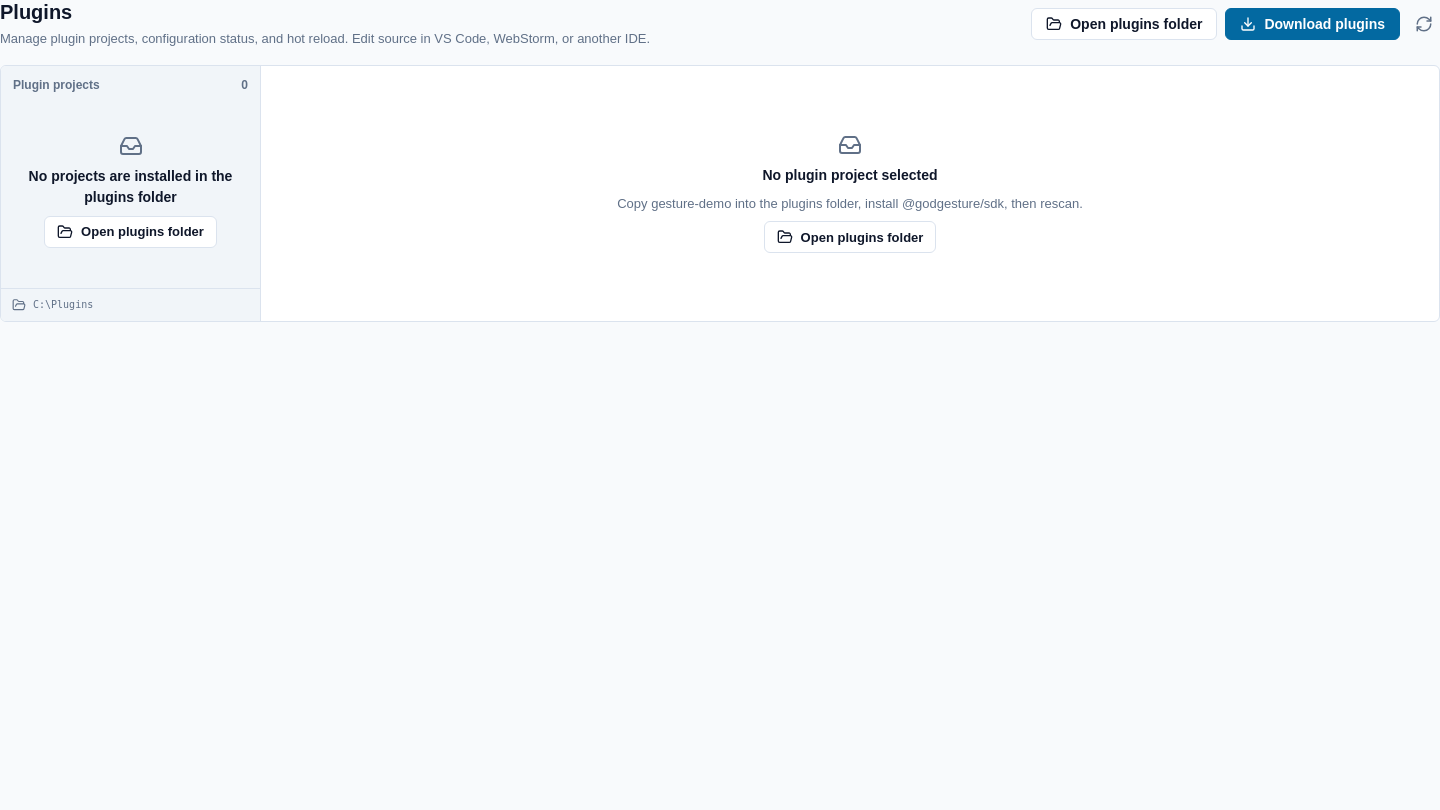
PluginsView › keeps a failed installation confirmable for retry and announces the error
The image size is (1440, 810).
Click the button with test id "plugins-open-online-catalog". click: (1313, 24)
box: [1226,8,1400,40]
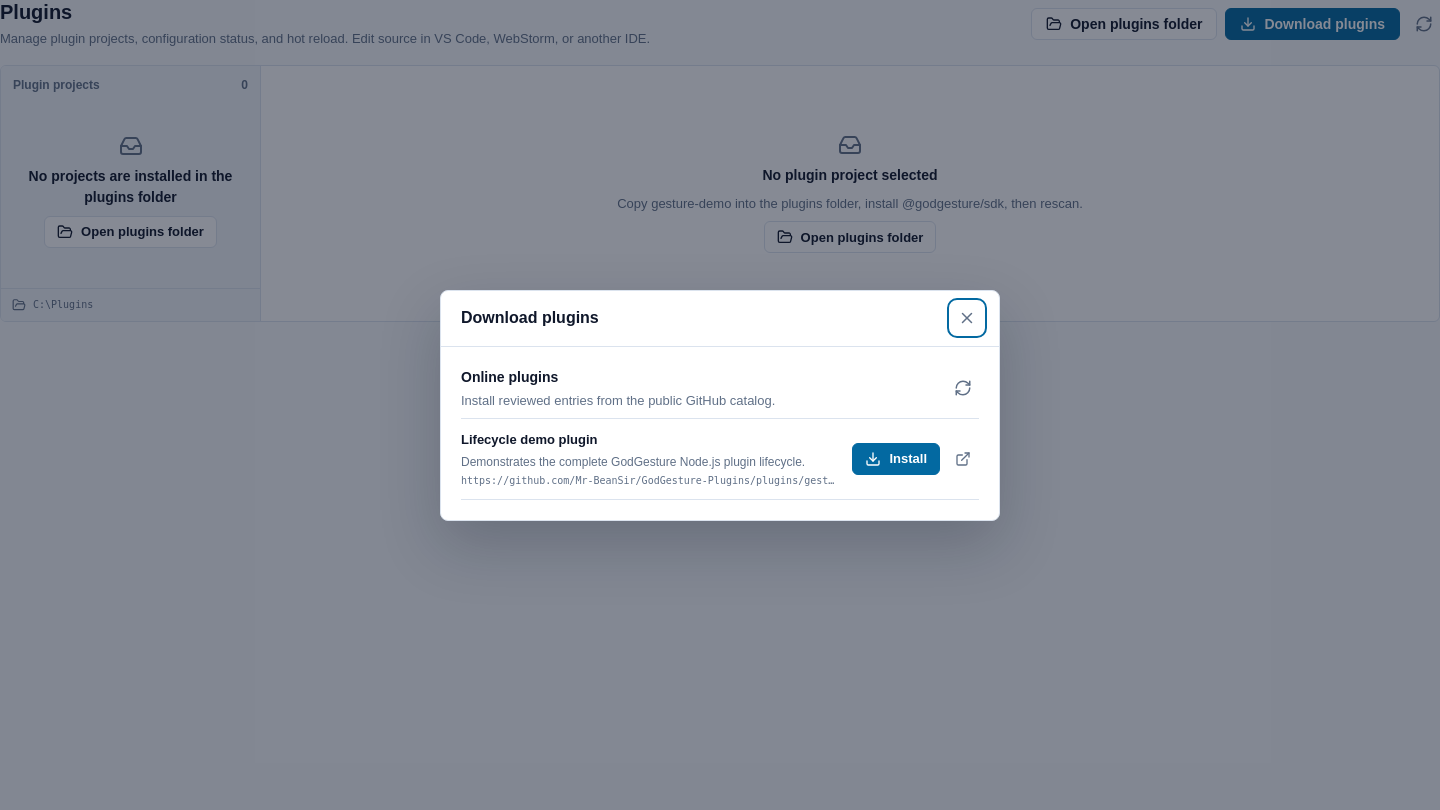
Expected: the dialog is shown, [440,290,1000,520]
Expected: the button with test id "plugins-install-30000000-0000-4000-8000-000000000001" is shown
Click the button with test id "plugins-install-30000000-0000-4000-8000-000000000001". click: (896, 459)
box: [852,443,940,475]
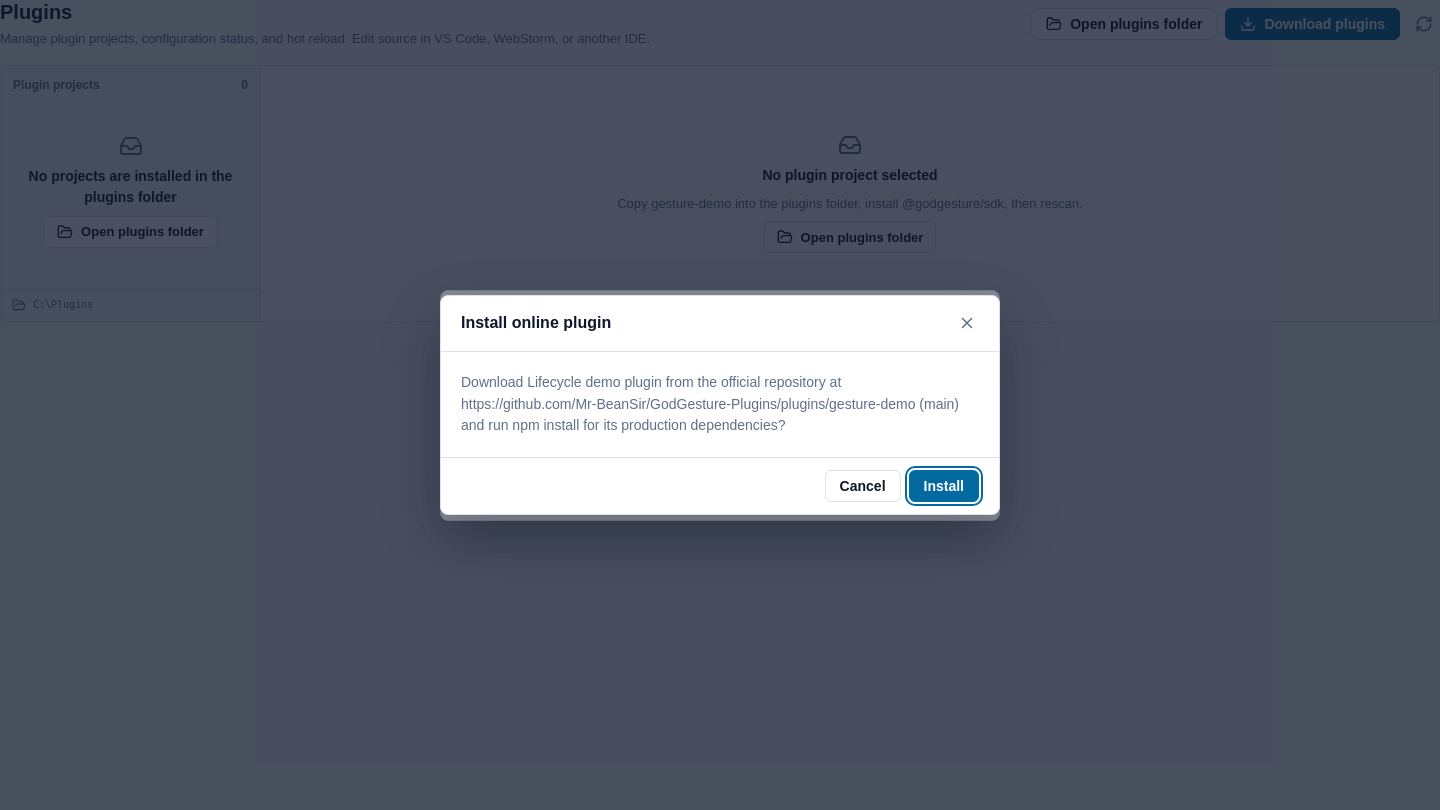
Expected: the button "Install" is shown
Click the button "Install". click: (944, 486)
box: [908,470,979,502]
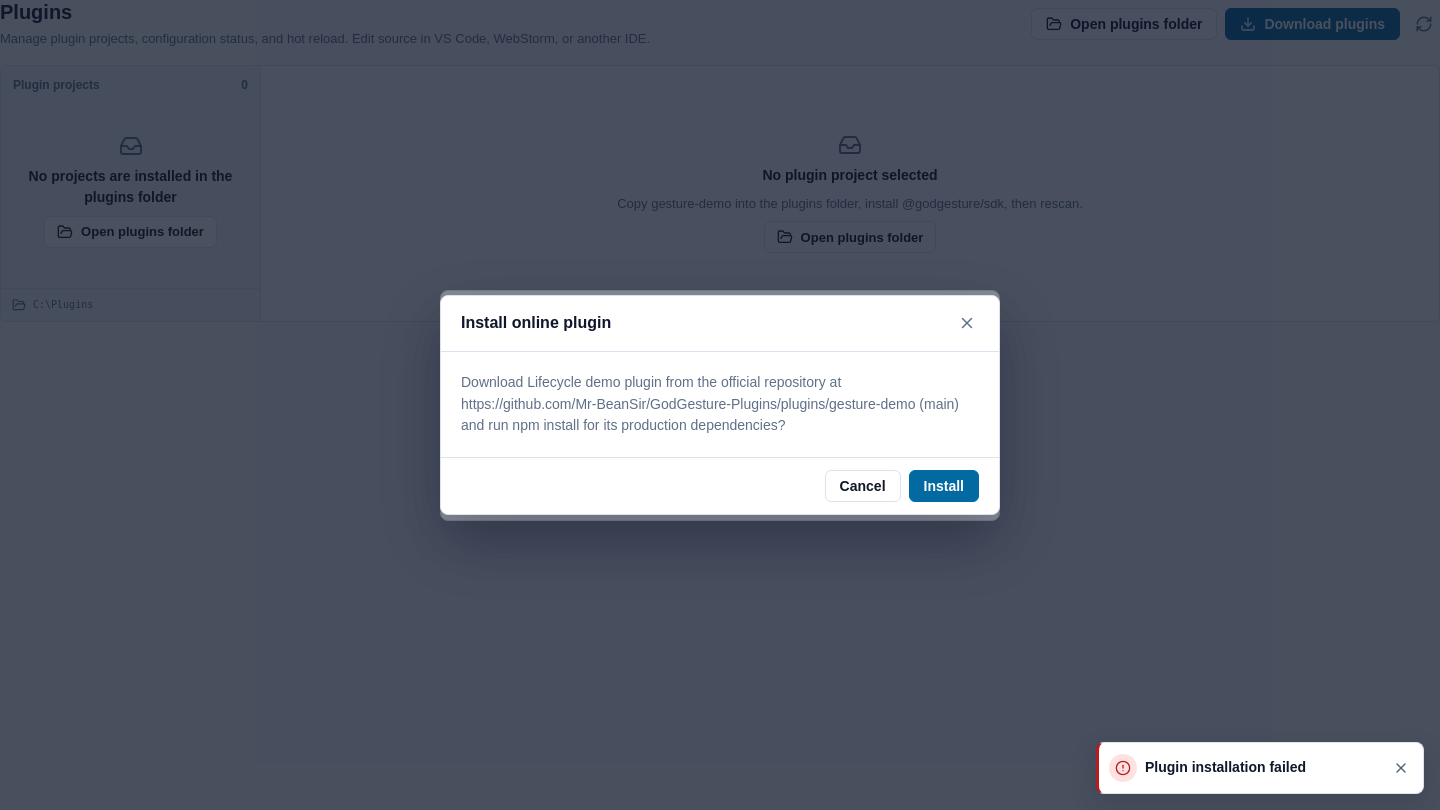
Expected: the button "Install" is enabled, [908,470,979,502]
Expected: the text "Plugin installation failed" is shown, [1145,759,1306,775]
